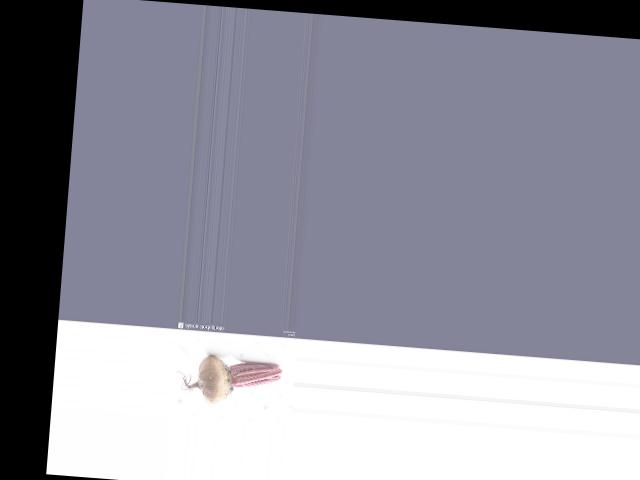beet: (175, 353, 283, 408)
